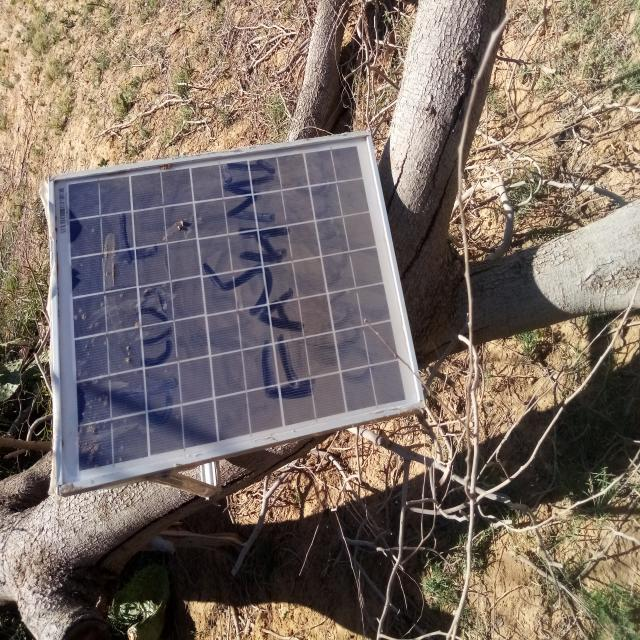faulty: (51, 133, 424, 487)
